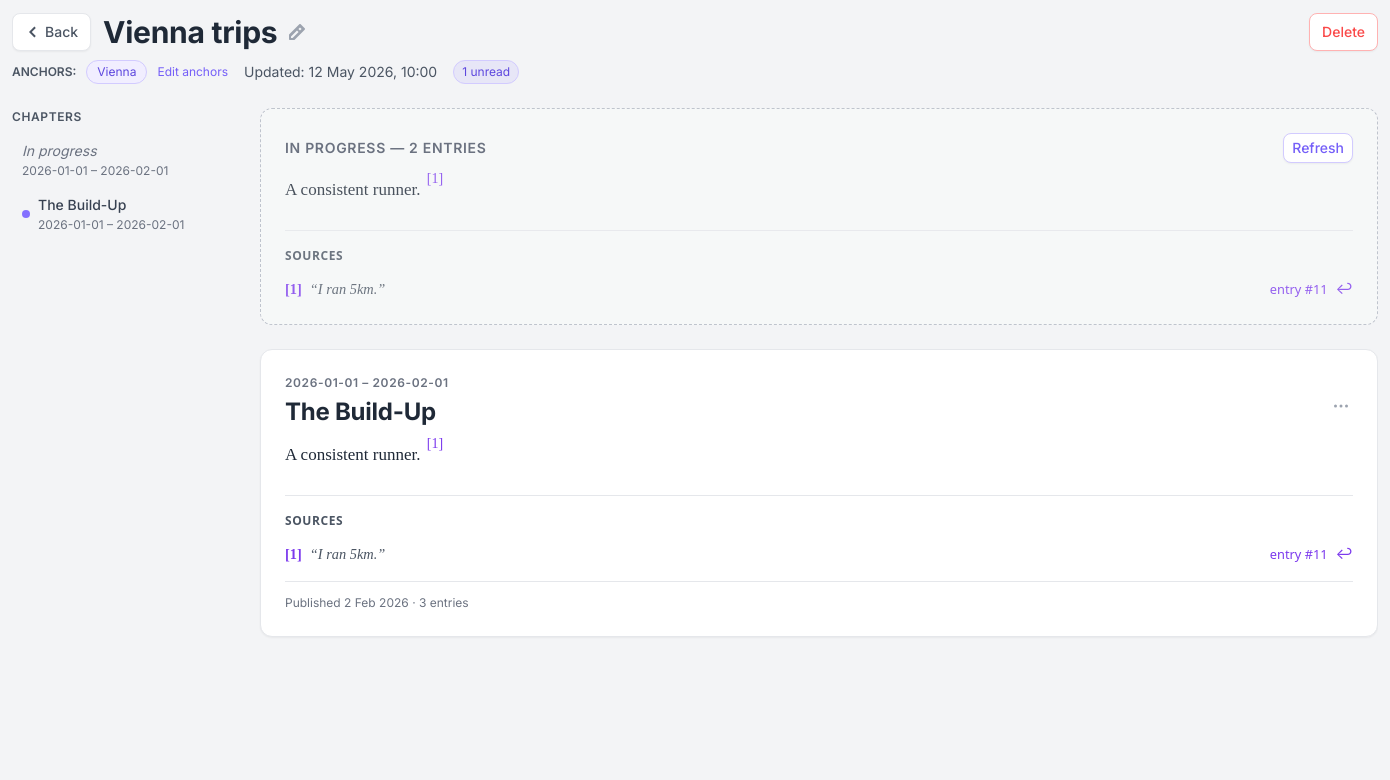
StorylineDetailView — header flows › shows the action error banner when a refresh fails
The image size is (1390, 780).
Click the button with test id "draft-refresh-button" at (1318, 148), box [1283, 133, 1353, 163]
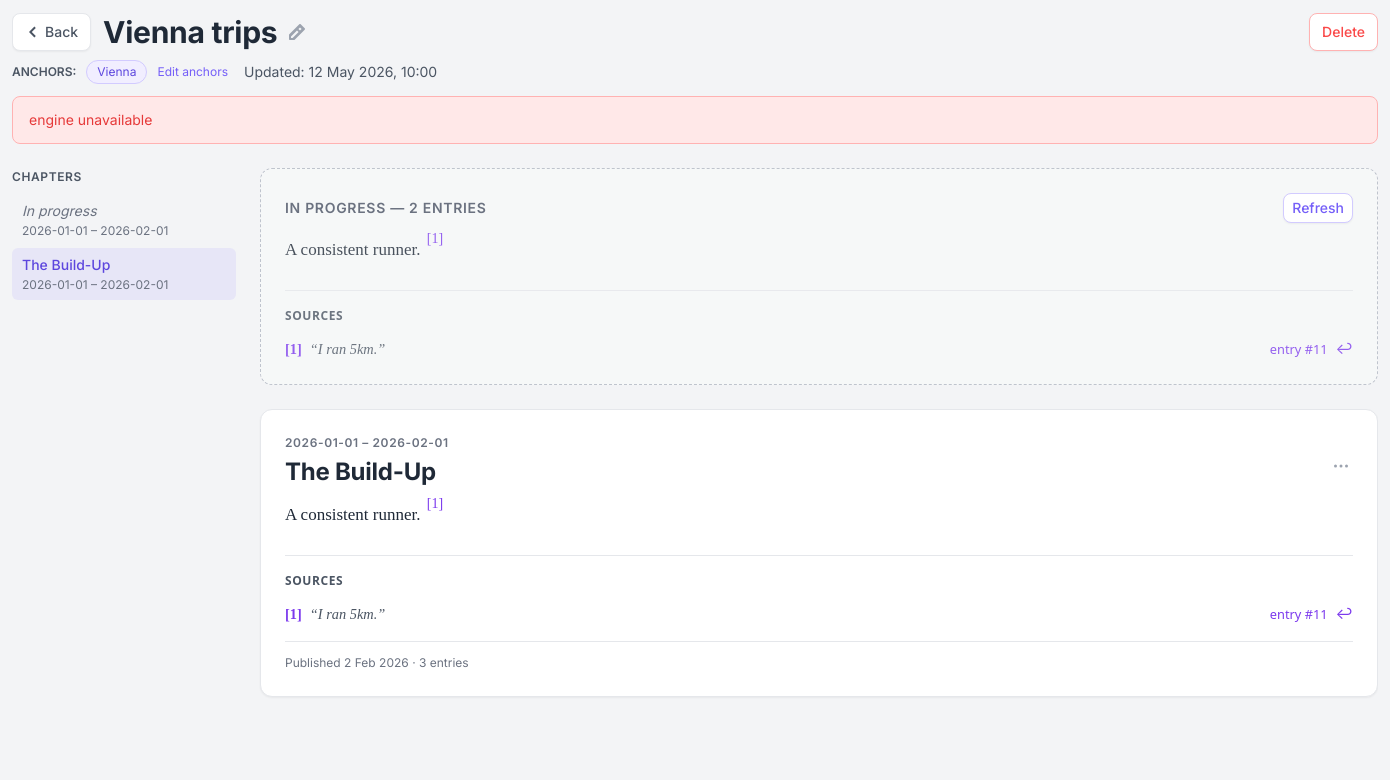
Now the text with test id "action-error-banner" reads "engine unavailable", box [29, 111, 152, 128]
